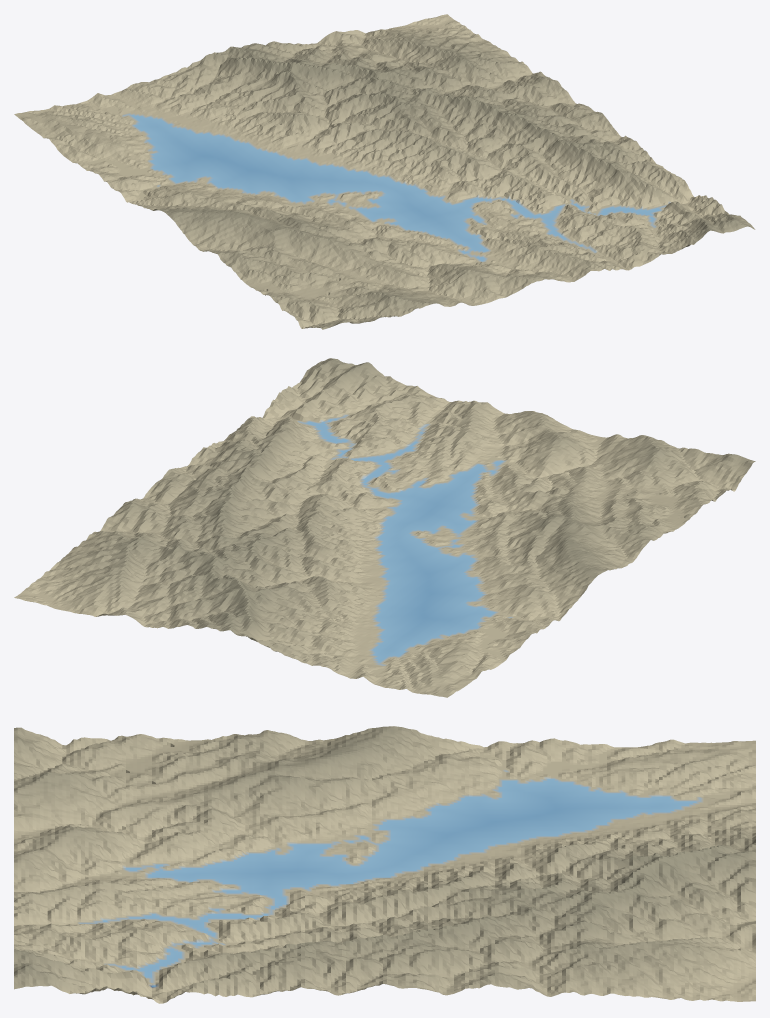
The model's file is lake_berryessa_ca.glb.
3 views of the same model, one above another, from view 1: azimuth 30°, elevation 25°; view 2: azimuth 150°, elevation 25°; view 3: azimuth 270°, elevation 25° (orthographic). The views are drawn at different scales.
Parts seen in each view (by area): view 1: terrain, water; view 2: terrain, water; view 3: terrain, water.
Part boxes in pixels (bbox=[...]): terrain: bbox=[14, 14, 755, 329]; water: bbox=[131, 115, 660, 261]; terrain: bbox=[14, 358, 755, 697]; water: bbox=[306, 419, 502, 662]; terrain: bbox=[14, 726, 755, 1003]; water: bbox=[103, 779, 696, 986].
Size of the model in its own units: 19790 by 1288 by 24433.
